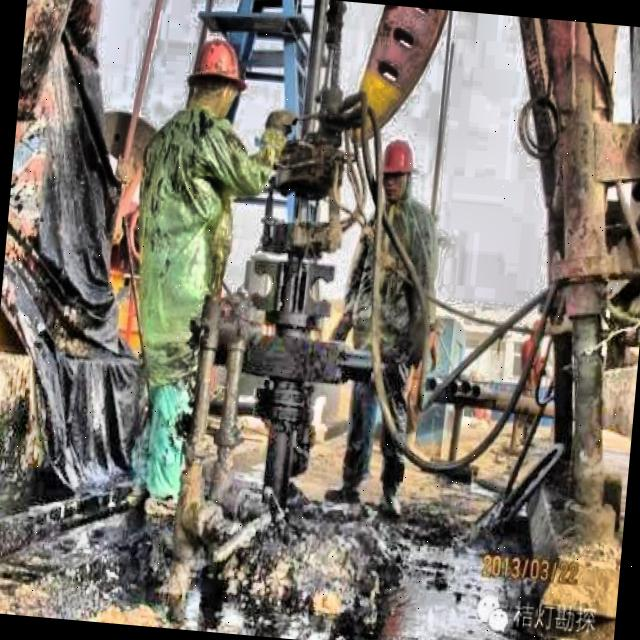helmet: (174, 18, 255, 136), (378, 132, 420, 208)
